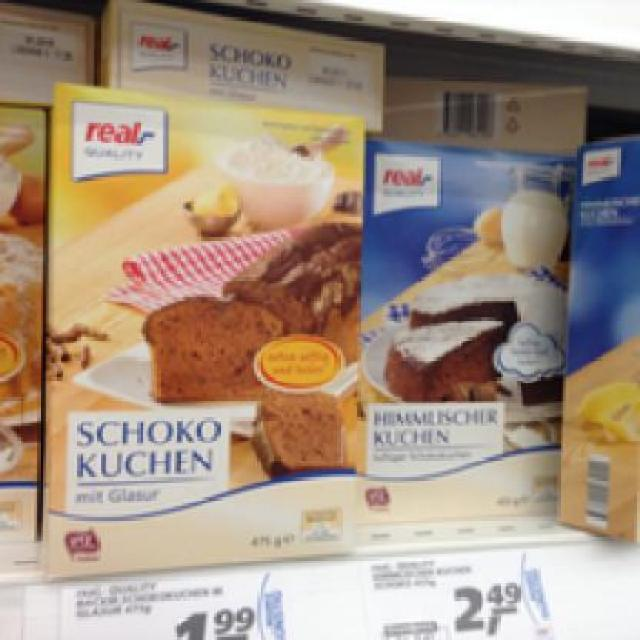Cake: (31, 77, 360, 577), (360, 130, 571, 546)
